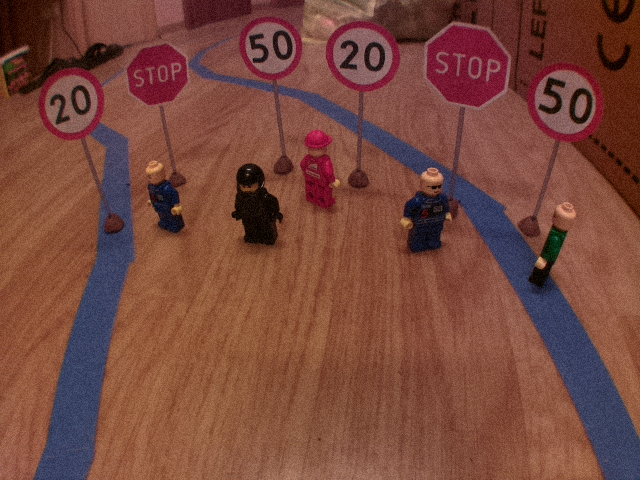LEGO_person: (399, 164, 457, 254), (525, 199, 578, 291), (139, 158, 190, 237), (298, 127, 344, 213)
ogr_20: (322, 18, 404, 95), (36, 65, 108, 141)
ogr_50: (525, 61, 607, 145), (235, 14, 306, 84)
stop: (419, 18, 517, 113), (124, 39, 193, 111)
